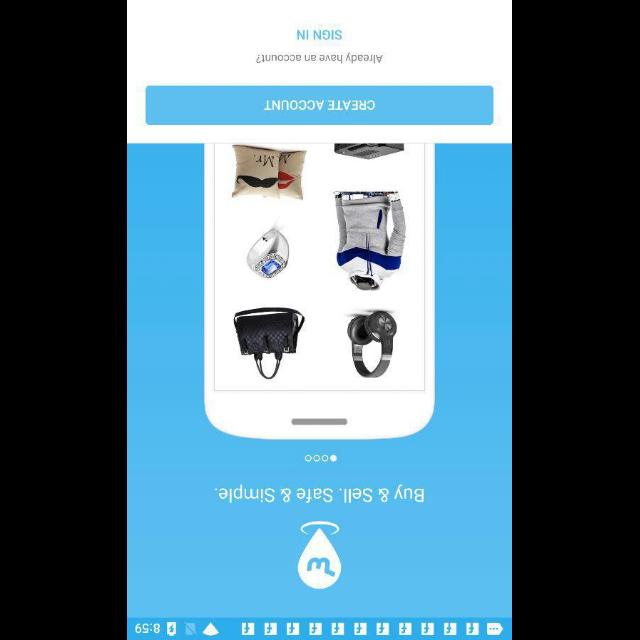image: (206, 143, 436, 439), (298, 520, 342, 588)
pageindicator: (304, 454, 338, 462)
text: (215, 483, 425, 502), (256, 52, 384, 64), (297, 30, 343, 40)
textbutton: (146, 86, 494, 124)
uppertaskbar: (128, 617, 512, 639)
